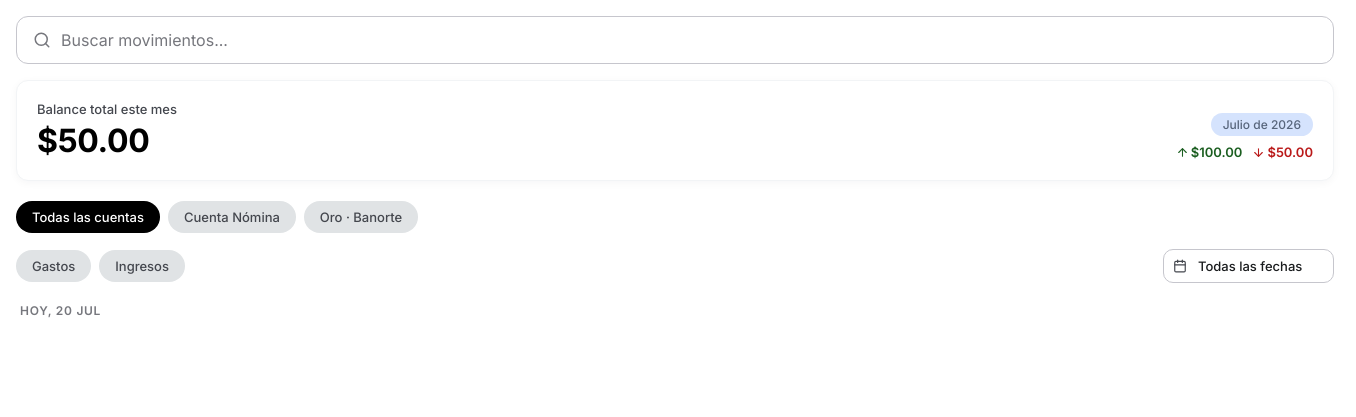
Test: HistorialView › filters by cuenta/tarjeta chip
Click the button with test id "historial-chip-target-tarjeta-1".
click(361, 217)  # box [304,201,418,233]
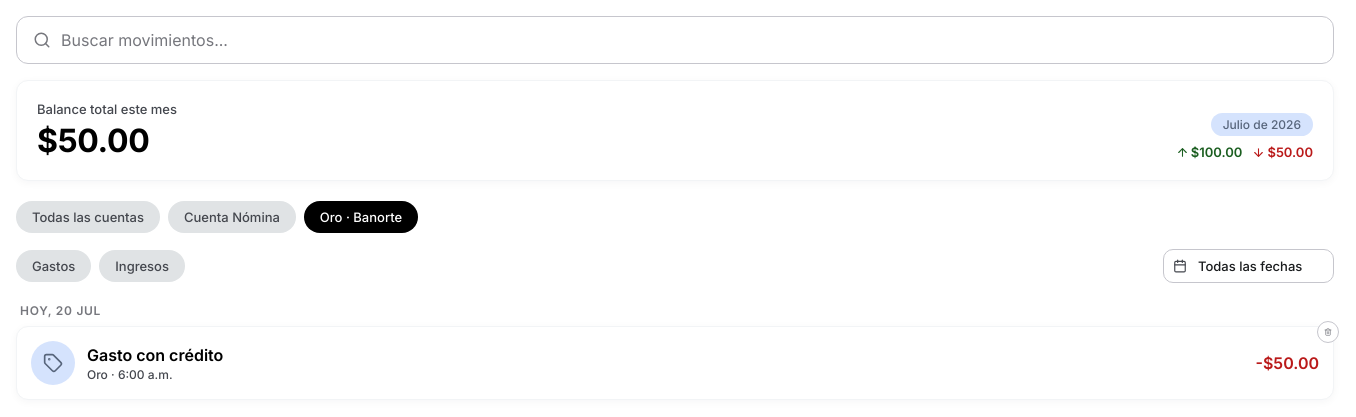
expect the text "Gasto con crédito" is shown: met, box [87,344,223,364]
